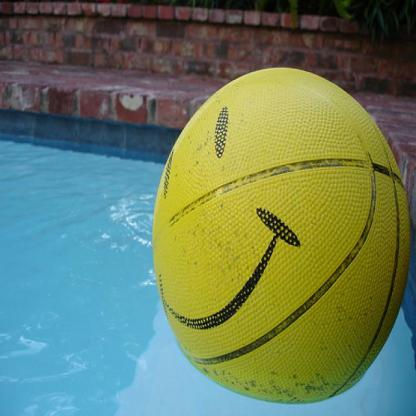basketball: (149, 64, 411, 404)
